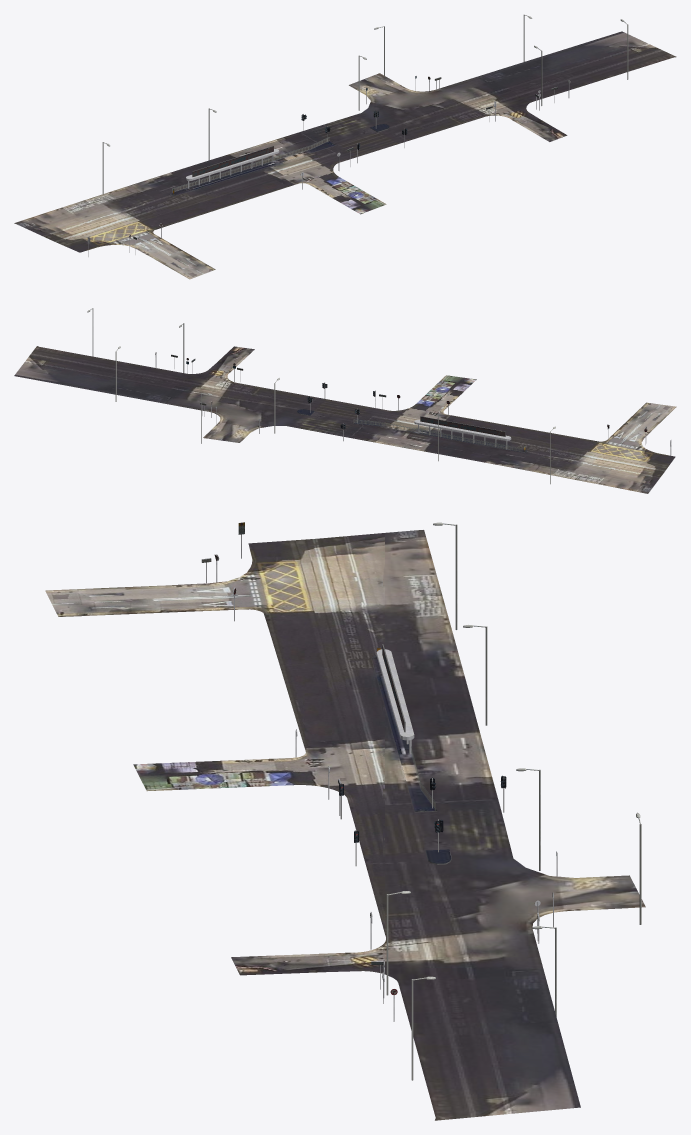
File: obrien-road.glb
The picture shows the model from 3 angles, top to bottom: view 1: azimuth 30°, elevation 25°; view 2: azimuth 150°, elevation 25°; view 3: azimuth 270°, elevation 25°; orthographic projection. The views are drawn at different scales.
Visible parts, largest first — view 1: obrien-road; view 2: obrien-road; view 3: obrien-road.
Boxes of the visible parts, <box> form: obrien-road: <box>14,14,676,279</box>; obrien-road: <box>14,308,676,493</box>; obrien-road: <box>45,522,645,1120</box>.
Size of the model in its own units: 134 by 11.76 by 57.31.
9 materials, 9 textured.
